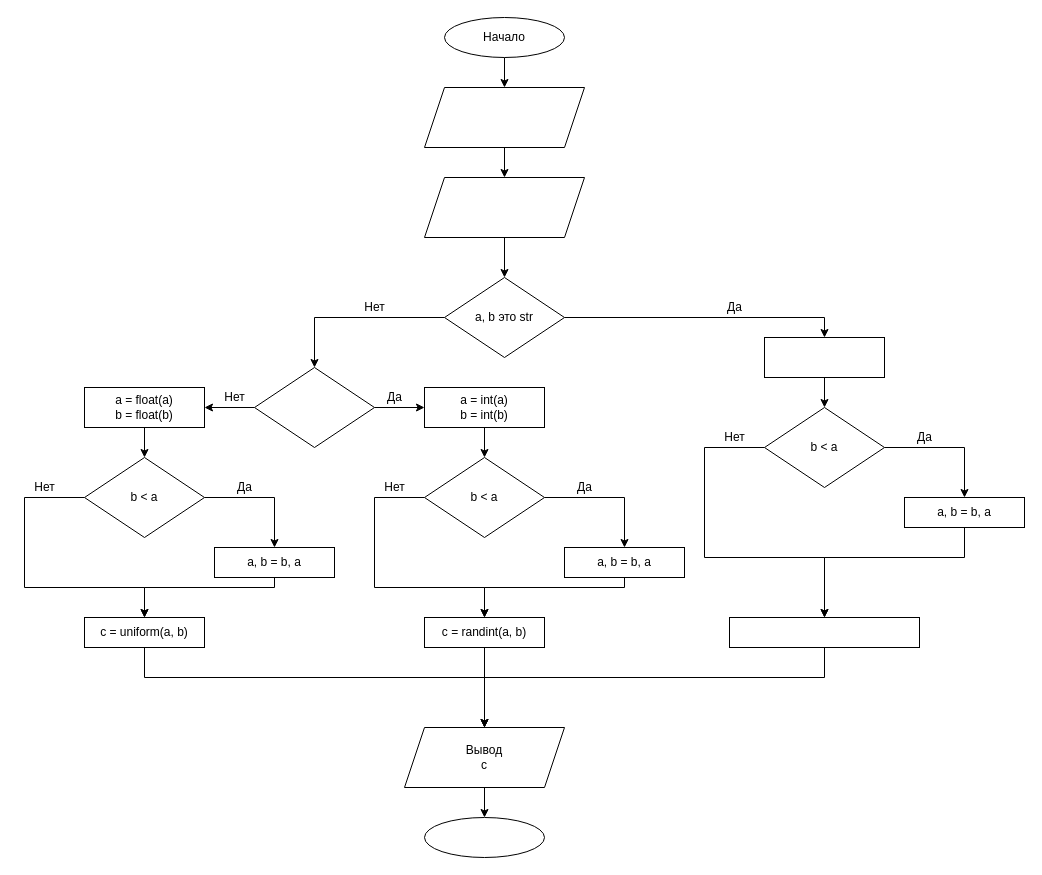
Some shapes in this 1042 by 875 pixel diagram are drawn without their labels. The shapes that lost their labels are listed below. From the top down, each one's centre as x and y in pixels, then its label:
the point at 504,117: Вывод "Введите границы диапазона"
the point at 504,207: Ввод a, b
the point at 824,357: a_code = ord(a) b_code = ord(b)
the point at 314,407: a, b это int
the point at 824,632: c = chr(randint(a_code, b_code))
the point at 484,837: Конец
